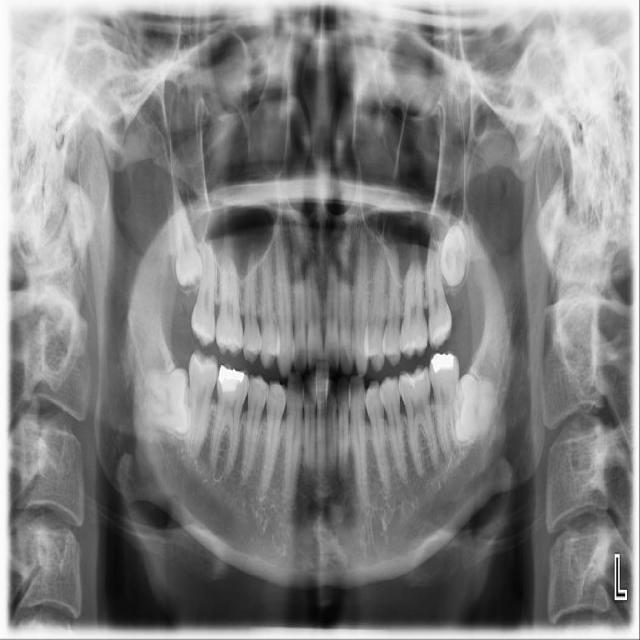3M ESPE Implant: (167, 182, 205, 289)
52: (209, 360, 253, 410), (428, 347, 461, 393)
73: (626, 616, 634, 626)
BioHorizons Implant: (426, 233, 453, 350)
BioLife Implant: (438, 224, 467, 288)
Biomet 3i Implant: (448, 373, 502, 447)
Blue Sky Bio Implant: (428, 350, 463, 466)
Caries: (191, 234, 216, 348)
Implant: (185, 349, 219, 461)
Keystone Dental Implant: (142, 365, 196, 438)
